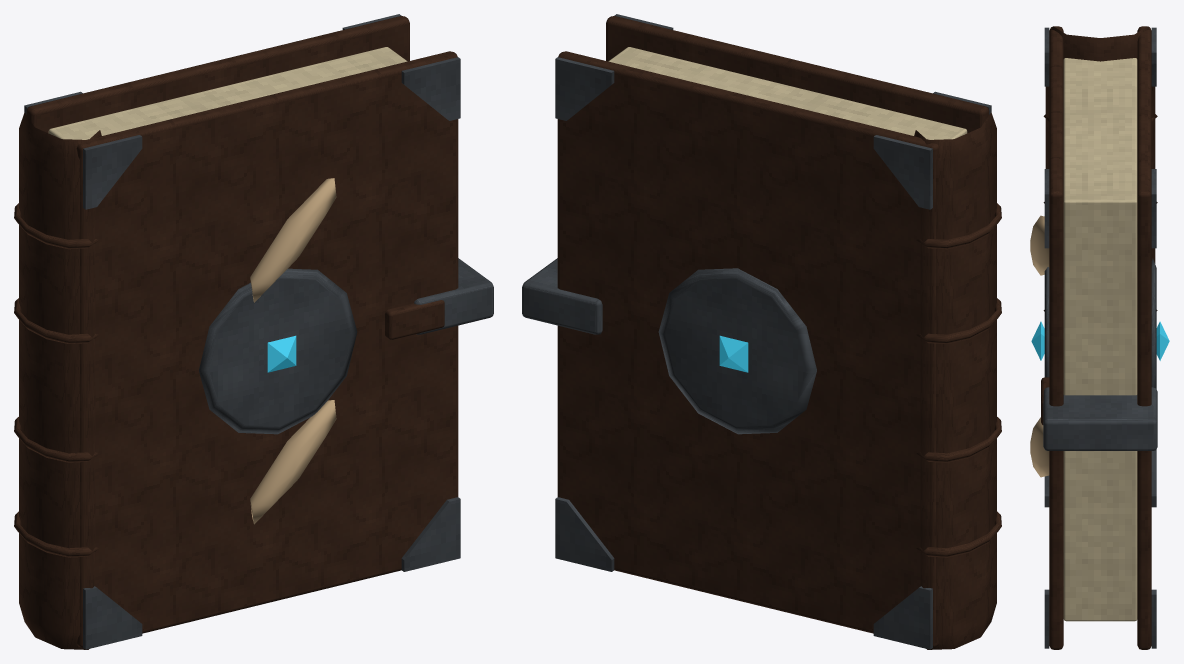
File: grimoire.lod2.glb
3 renders of one model, left to right at view 1: azimuth 30°, elevation 25°; view 2: azimuth 150°, elevation 25°; view 3: azimuth 270°, elevation 25°, orthographic. The views are drawn at different scales.
Visible parts, largest first — view 1: leather / oiled leather wrap, darksteel / oil-blackened fittings, thread loop, paper / paper and vellum, crystal / faceted crystal; view 2: leather / oiled leather wrap, darksteel / oil-blackened fittings, paper / paper and vellum, crystal / faceted crystal; view 3: paper / paper and vellum, leather / oiled leather wrap, darksteel / oil-blackened fittings, thread loop, crystal / faceted crystal.
Part boxes in pixels (box(x1,y1,x2,y2)): leather / oiled leather wrap: box(14, 16, 458, 649); darksteel / oil-blackened fittings: box(24, 14, 493, 649); thread loop: box(250, 178, 336, 524); paper / paper and vellum: box(48, 47, 407, 139); crystal / faceted crystal: box(267, 335, 296, 372); leather / oiled leather wrap: box(557, 16, 1001, 649); darksteel / oil-blackened fittings: box(522, 14, 991, 649); paper / paper and vellum: box(608, 47, 967, 139); crystal / faceted crystal: box(719, 335, 748, 372); paper / paper and vellum: box(1063, 58, 1137, 621); leather / oiled leather wrap: box(1041, 26, 1157, 649); darksteel / oil-blackened fittings: box(1043, 27, 1157, 648); thread loop: box(1030, 215, 1049, 477); crystal / faceted crystal: box(1031, 321, 1169, 360).
Bounding box in the file's own units: 0.3878 × 0.43 × 0.1171.
Materials: 5 (3 with a texture image).
